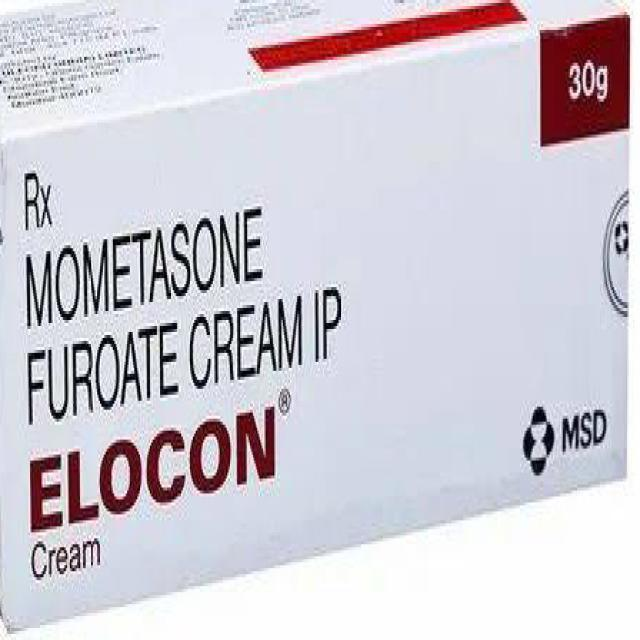drug-name: (20, 399, 283, 540)
